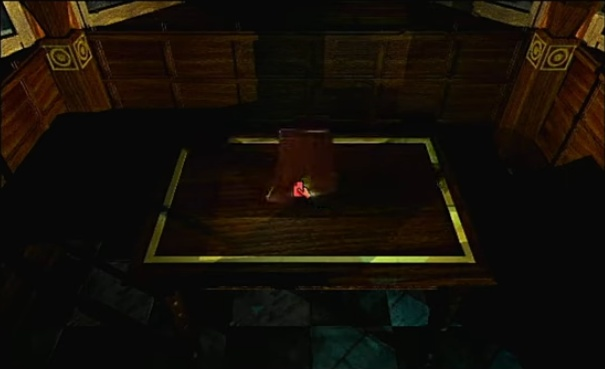Keep: (290, 177, 314, 200)
